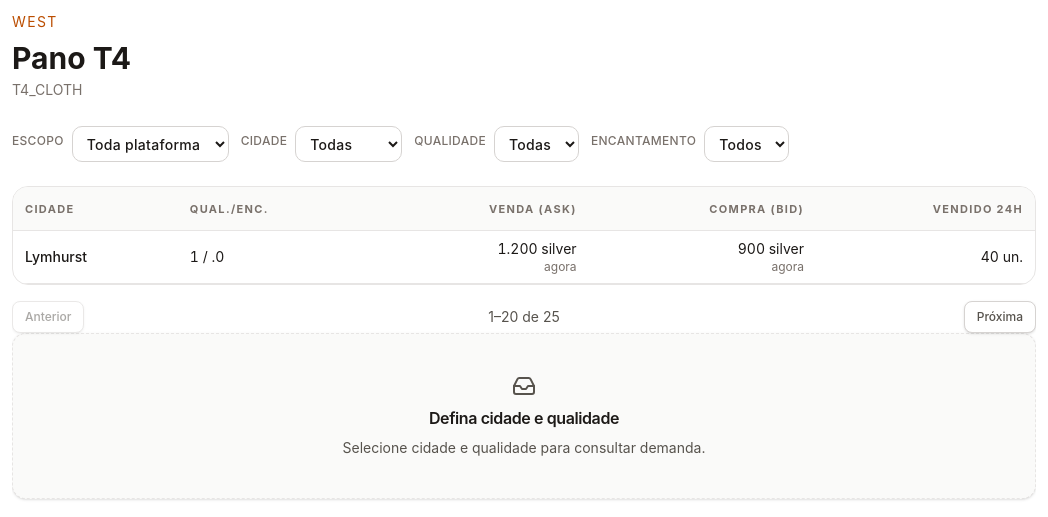
it: o filtro de qualidade altera o total exibido (task 17 pela UI)
The width and height of the screenshot is (1048, 517).
Expected: the text "1–20 de 25" is shown, top-left (488, 307), bottom-right (560, 327)
Select "3" in the dropdown labelled "Qualidade" at (536, 144), box top-left (494, 126), bottom-right (579, 162)
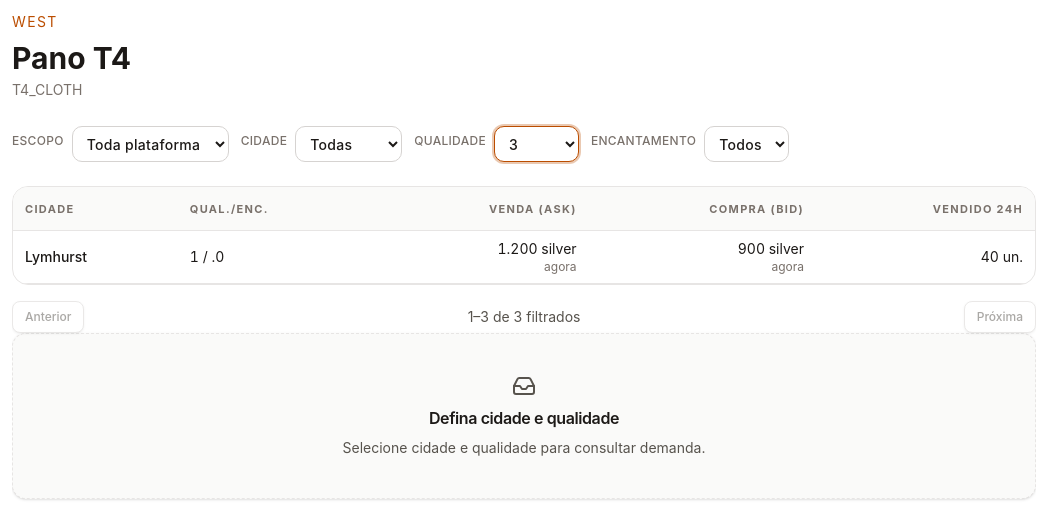
Expected: the text "1–3 de 3 filtrados" is shown, top-left (468, 307), bottom-right (580, 327)
